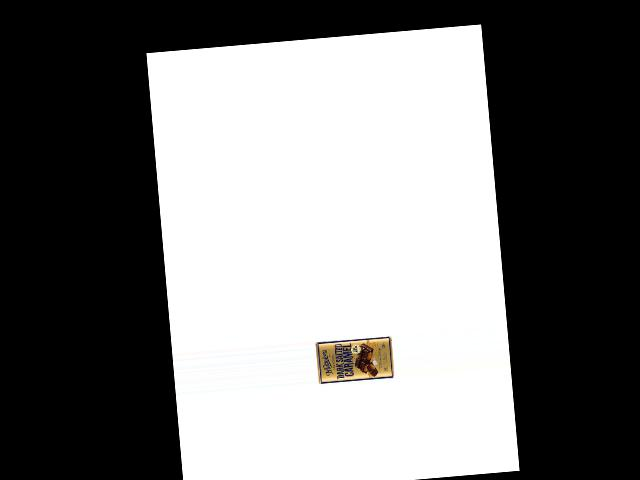chocolate: (315, 332, 396, 385)
